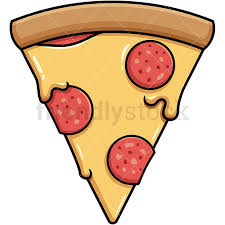pizza: (9, 6, 218, 221)
